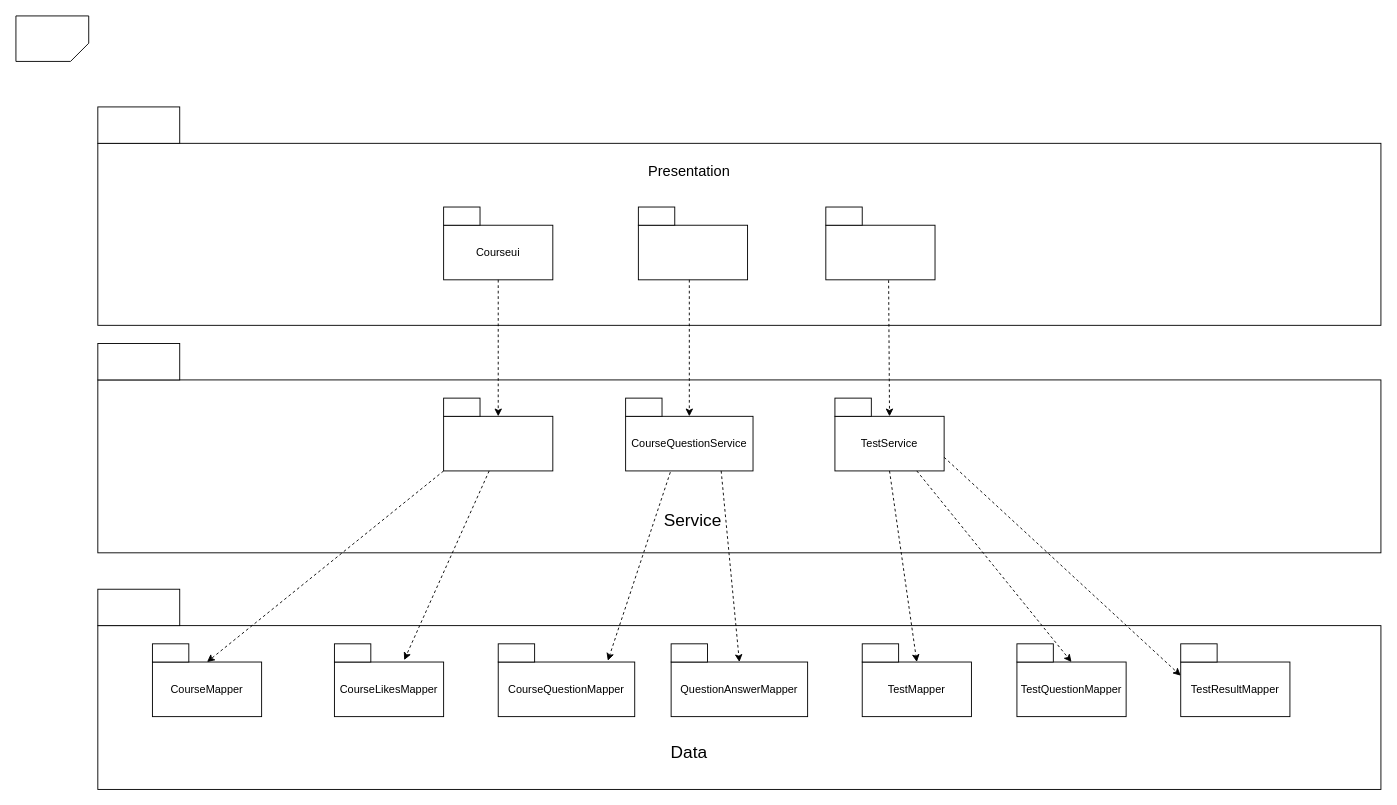
This 1397x805 diagram has some shape labels left out. The shapes that lost their labels are listed below. From the top down, each one's box as (x1, y1, x2, y2) in pixels, then its label:
(15, 15, 89, 61): pkg
(637, 224, 748, 280): CourseQuestionui
(825, 224, 935, 280): Testui
(443, 415, 553, 471): CourseService
